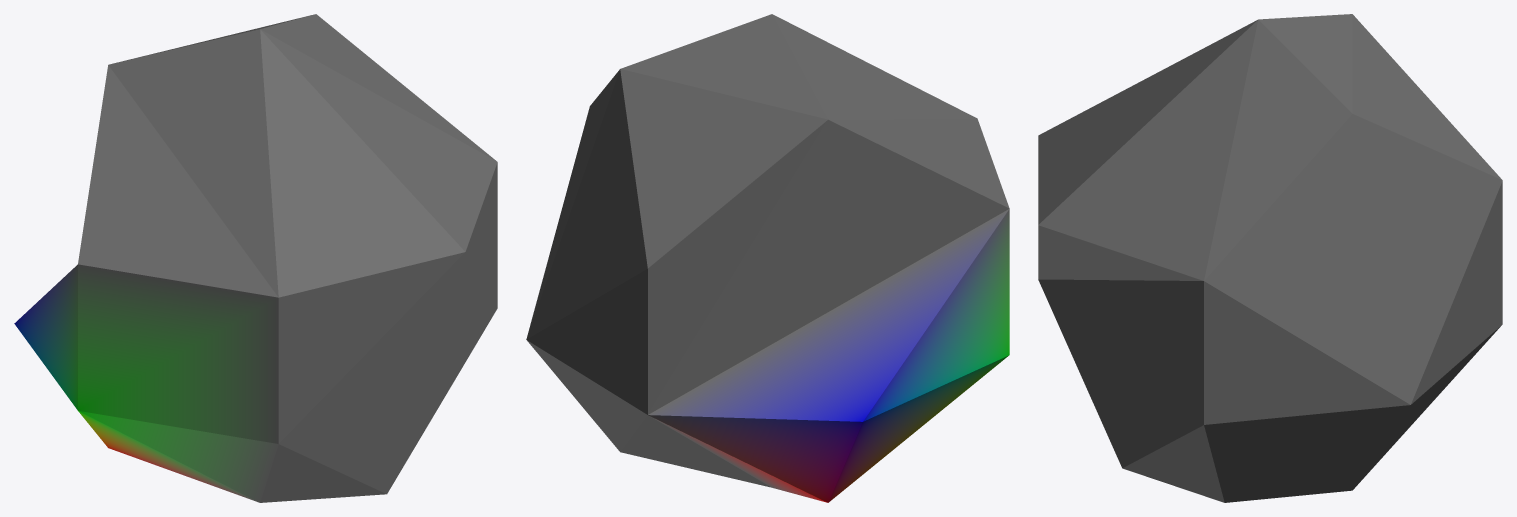
Rendered from Decimate1.obj.
3 views of the same model, side by side, from view 1: azimuth 30°, elevation 25°; view 2: azimuth 150°, elevation 25°; view 3: azimuth 270°, elevation 25° (orthographic).
Bounding box in the file's own units: 1.85 × 2 × 1.81.
